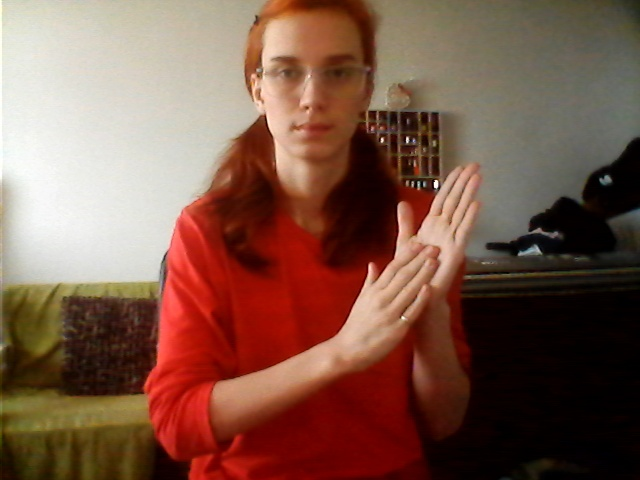m: (340, 159, 493, 367)
